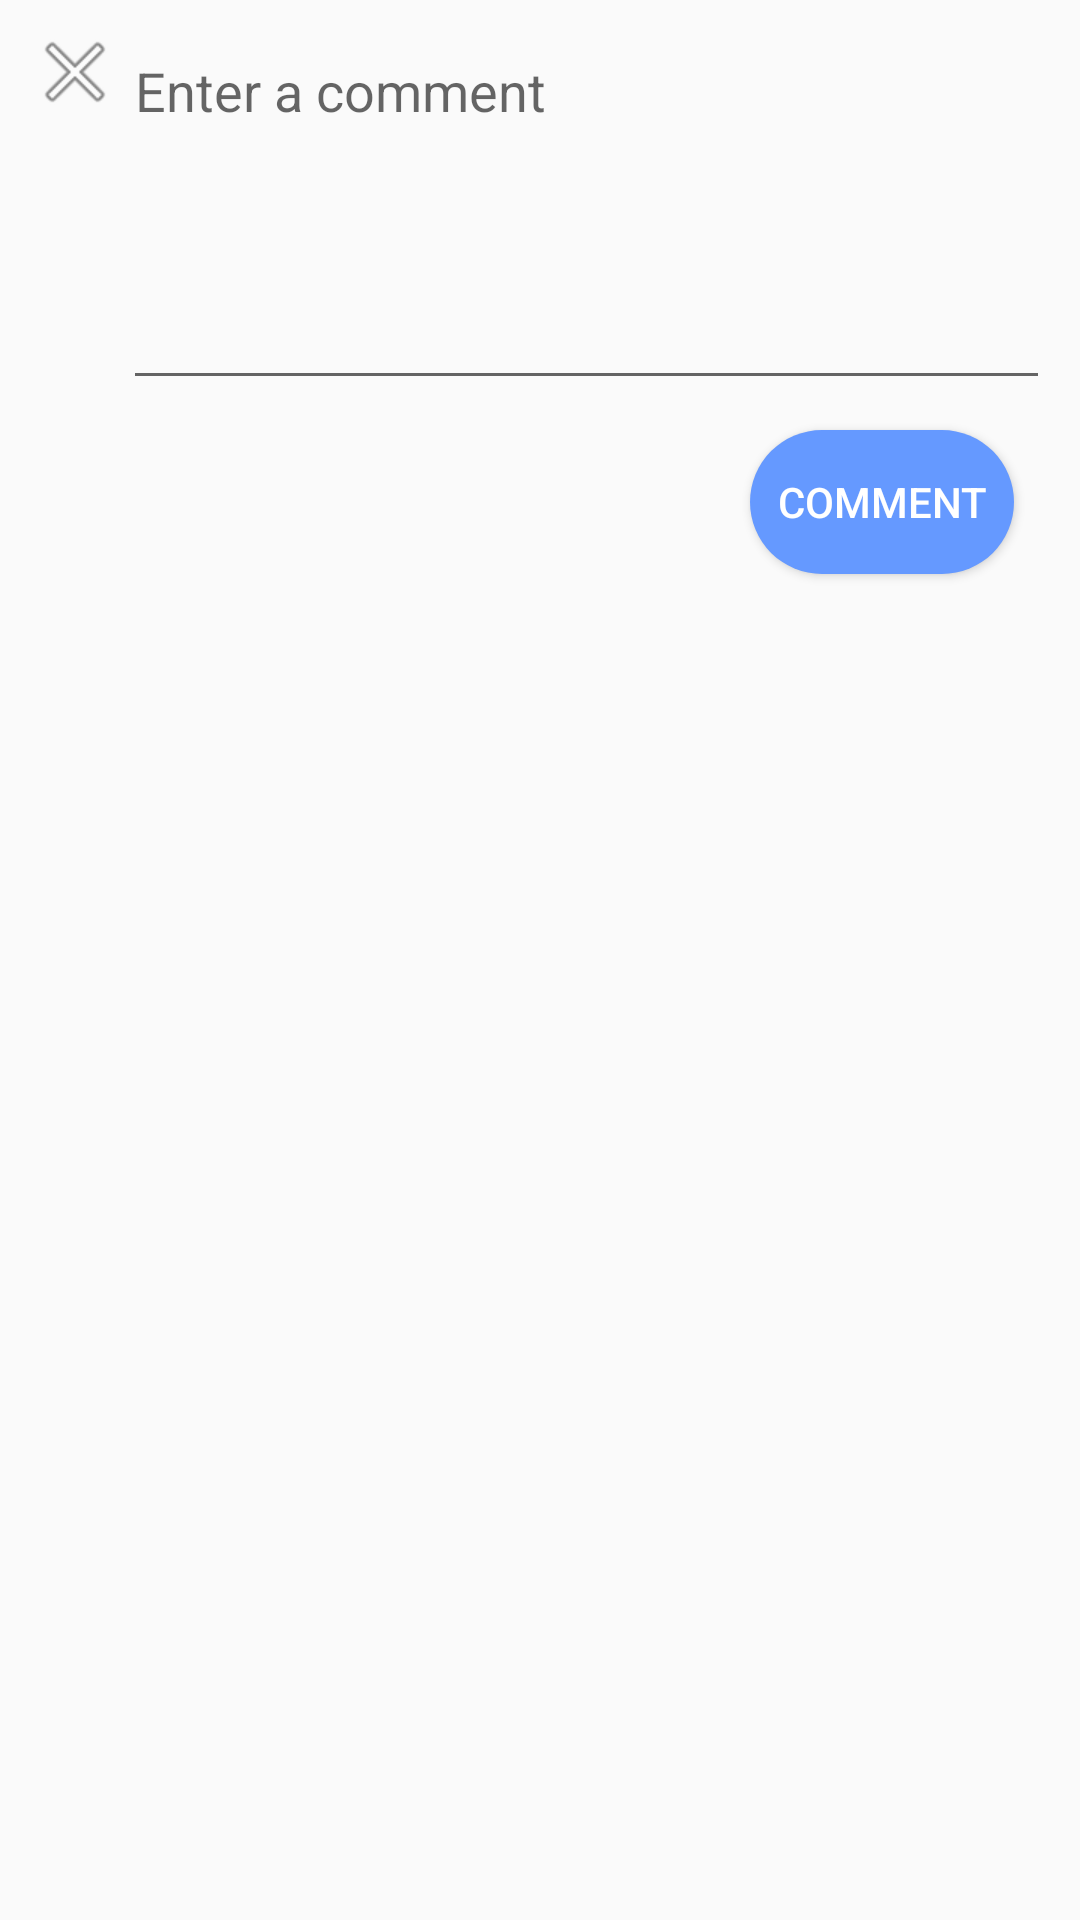

Named icons in this screenshot (1080*1920) and their centers, (x=x, y=y):
close clear cancel: (x=75, y=72)
